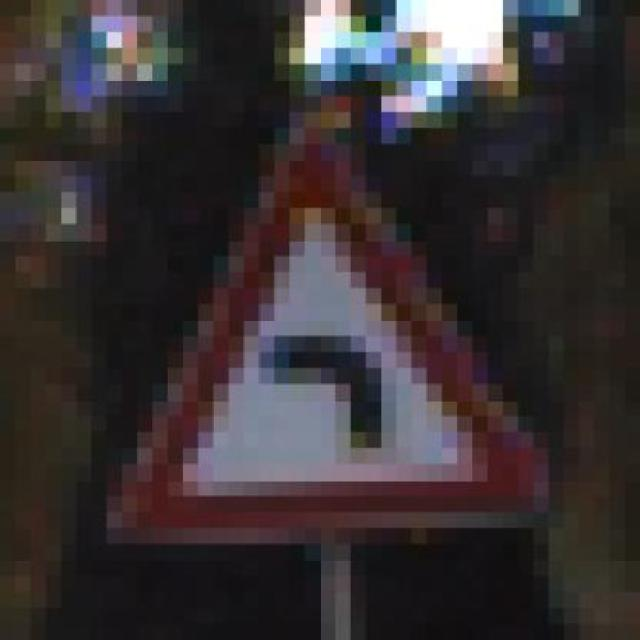Dangerous Left Curve Ahead: (61, 111, 594, 544)
